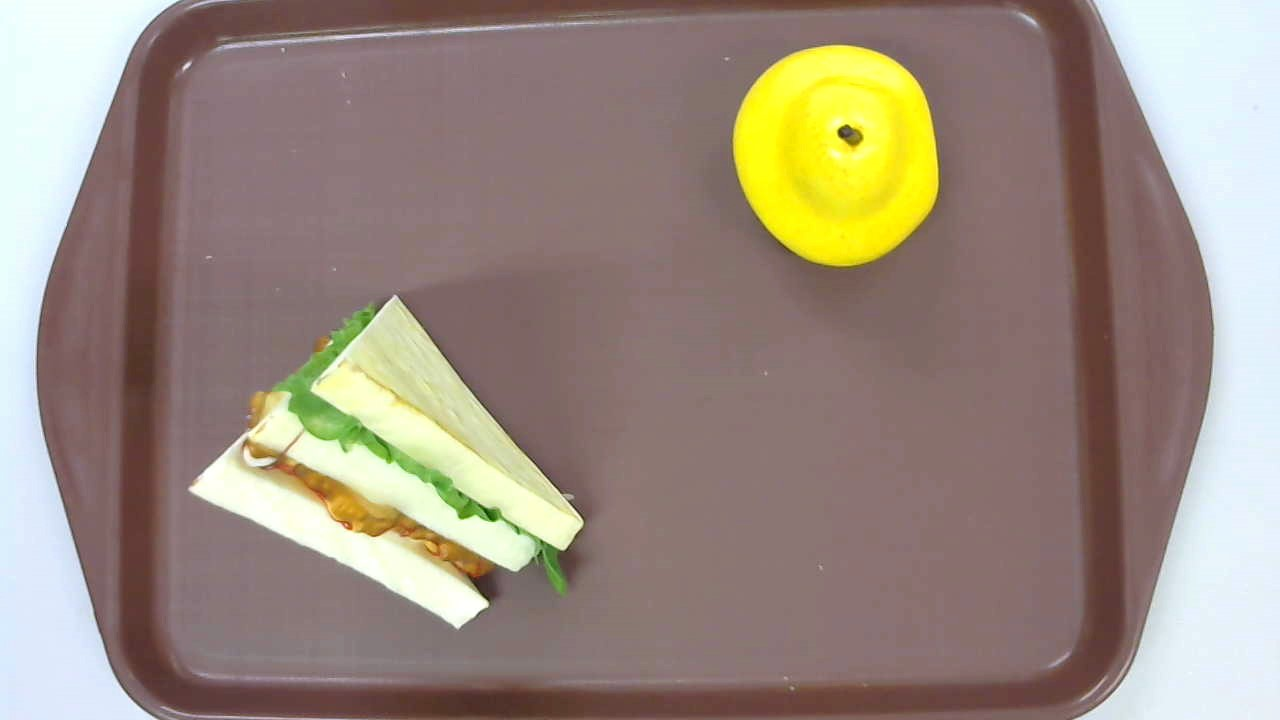sandwich: (188, 293, 584, 631)
yellow pear: (731, 44, 939, 266)
